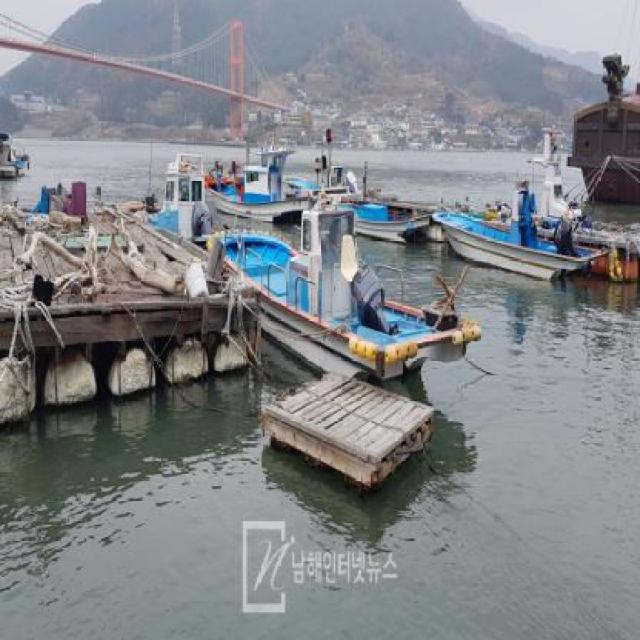fish-b: (207, 182, 483, 396), (433, 123, 616, 302), (206, 117, 328, 237)
